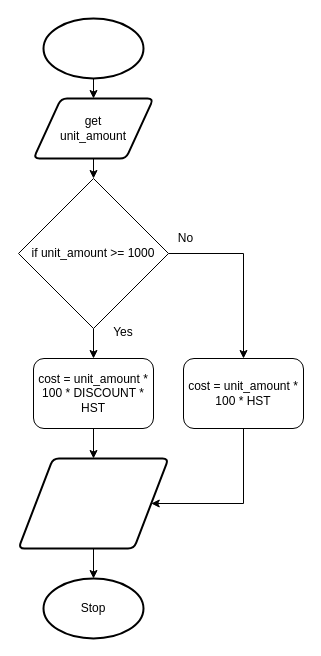
Image size: 321x656. Some labels were removed from this diagram. Here are the shapes that lost their labels. From the top down, the box of each, then its label:
(42, 17, 144, 79): Start
(17, 457, 169, 549): show Your price will be $cost.
